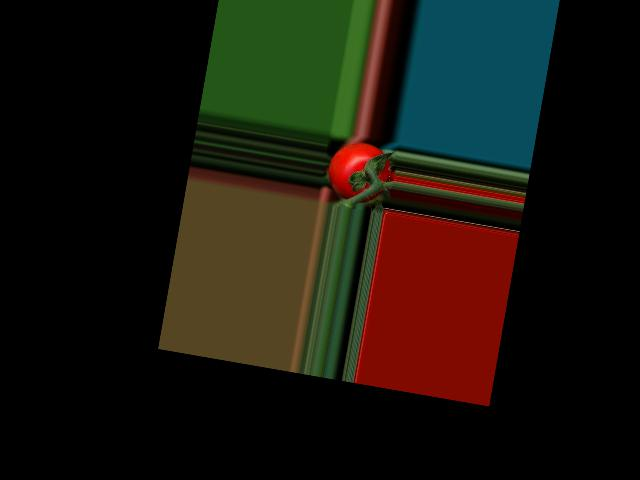tomato: (324, 137, 398, 207)
